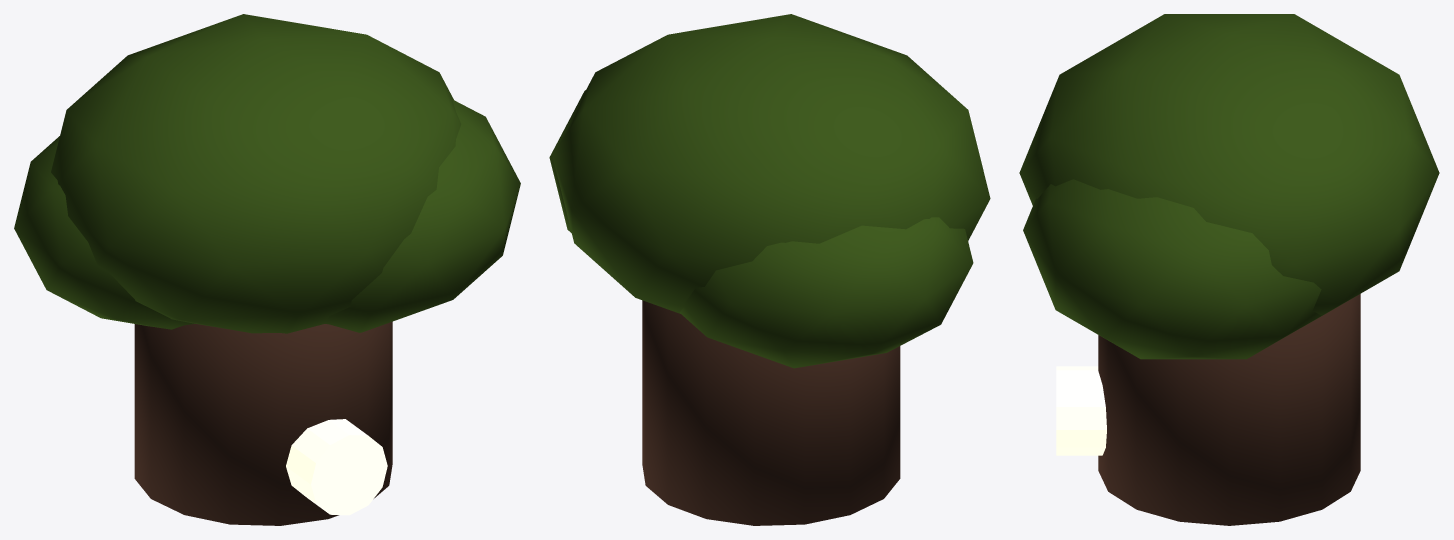
File: gran_arbol.glb
3 renders of one model, left to right at view 1: azimuth 30°, elevation 25°; view 2: azimuth 150°, elevation 25°; view 3: azimuth 270°, elevation 25°, orthographic.
Visible parts, largest first — view 1: Icosphere, GranArbol_Tronco, Icosphere.002, Icosphere.001, Cylinder; view 2: Icosphere, GranArbol_Tronco, Icosphere.001; view 3: Icosphere, GranArbol_Tronco, Icosphere.002, Cylinder.
Boxes of the visible parts, x1,y1,x2,y2 form: Icosphere: (51,14,461,333); GranArbol_Tronco: (134,321,392,525); Icosphere.002: (325,99,520,332); Icosphere.001: (14,136,194,329); Cylinder: (286,419,387,515); Icosphere: (552,14,990,313); GranArbol_Tronco: (642,300,900,525); Icosphere.001: (679,217,973,368); Icosphere: (1019,14,1439,325); GranArbol_Tronco: (1098,294,1360,525); Icosphere.002: (1023,179,1324,359); Cylinder: (1056,366,1106,455).
Bounding box in the file's own units: 8.11 × 8.06 × 7.04.
